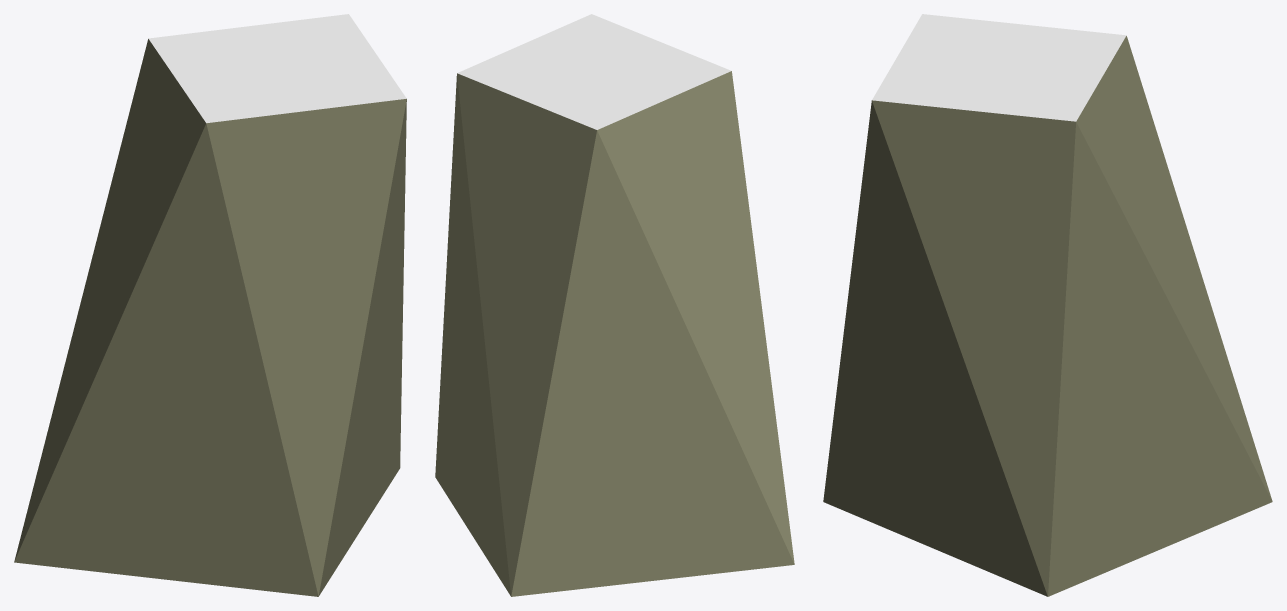
Rendered from Dead_Stump_Snow_02_LOD.fbx.
The picture shows the model from 3 angles, left to right: view 1: azimuth 30°, elevation 25°; view 2: azimuth 150°, elevation 25°; view 3: azimuth 270°, elevation 25°; orthographic projection. The views are drawn at different scales.
Visible parts, largest first — view 1: Dead_Stump_Snow_02_LOD0; view 2: Dead_Stump_Snow_02_LOD0; view 3: Dead_Stump_Snow_02_LOD0.
Part boxes in pixels (x1=…): Dead_Stump_Snow_02_LOD0: x1=14, y1=14, x2=406, y2=596; Dead_Stump_Snow_02_LOD0: x1=435, y1=14, x2=794, y2=596; Dead_Stump_Snow_02_LOD0: x1=823, y1=14, x2=1272, y2=596.
Size of what is drawn, in the model's own units: 98.01 by 110 by 98.01.
